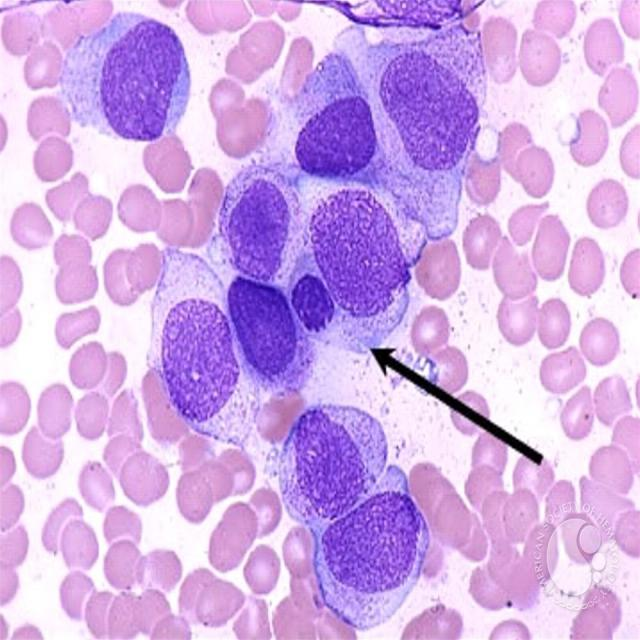ALL Positive Cell: (296, 197, 414, 359), (72, 3, 196, 143), (368, 33, 482, 168), (332, 465, 420, 602), (150, 291, 239, 425), (276, 74, 379, 182), (279, 415, 382, 517), (216, 176, 293, 290), (230, 265, 310, 374)
